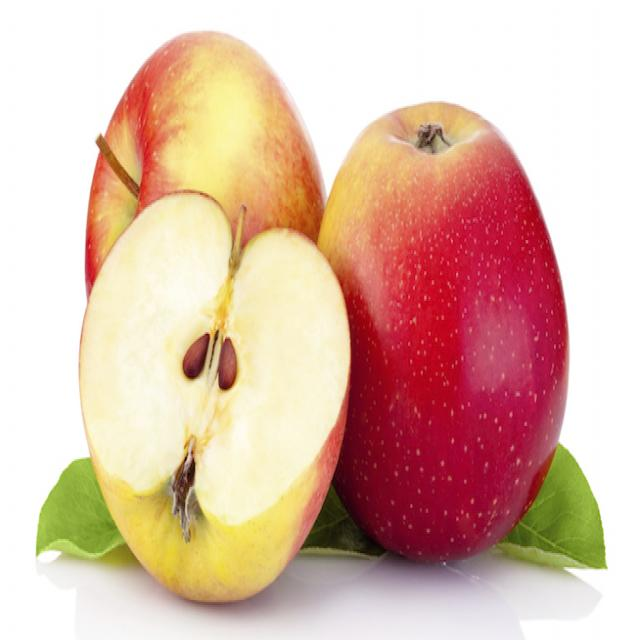apple: (320, 93, 576, 565), (77, 206, 351, 600), (87, 30, 326, 413)
